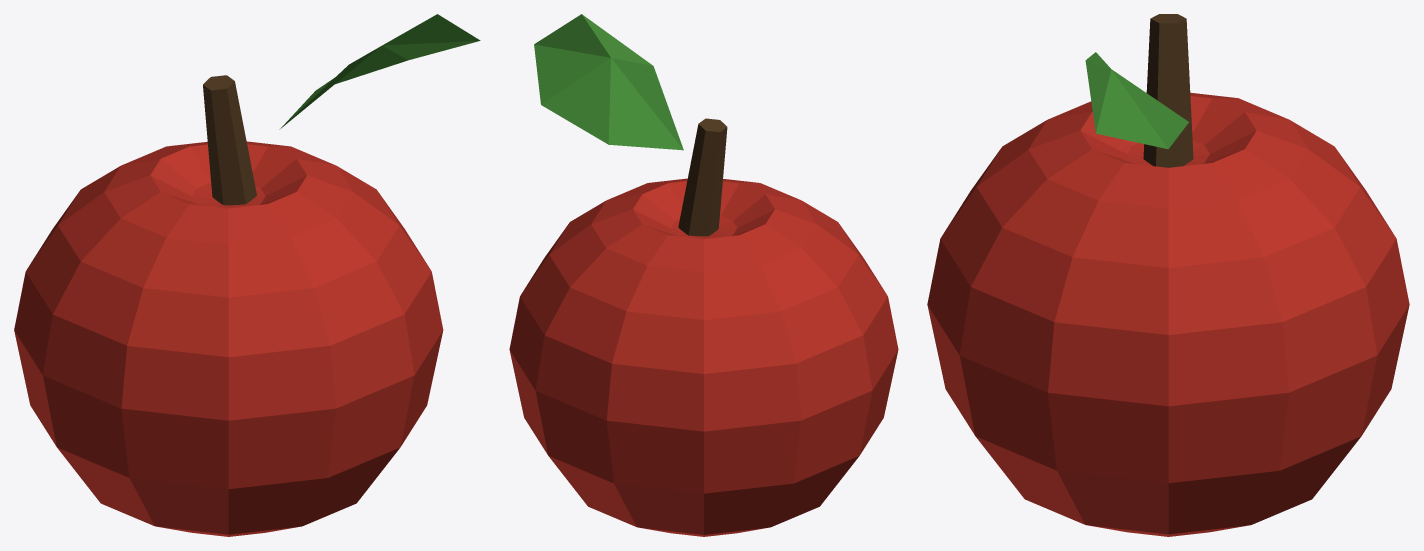
File: apple-b15012.glb
The picture shows the model from 3 angles, left to right: view 1: azimuth 30°, elevation 25°; view 2: azimuth 150°, elevation 25°; view 3: azimuth 270°, elevation 25°; orthographic projection. The views are drawn at different scales.
Bounding box in the file's own units: 0.1015 × 0.114 × 0.093.
